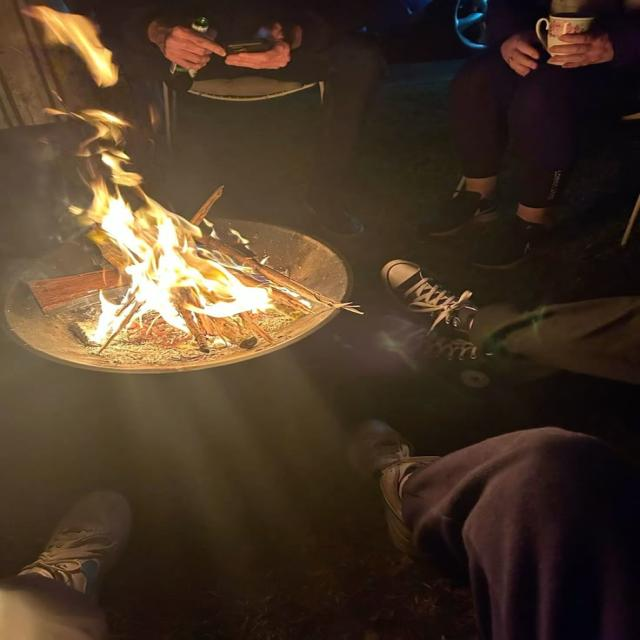fire: (25, 107, 271, 347), (23, 4, 118, 88)
